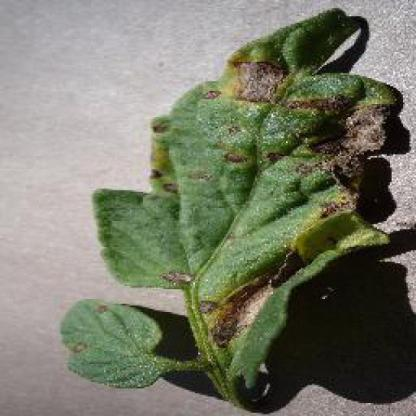Tomato_Blight: (61, 10, 397, 382)
